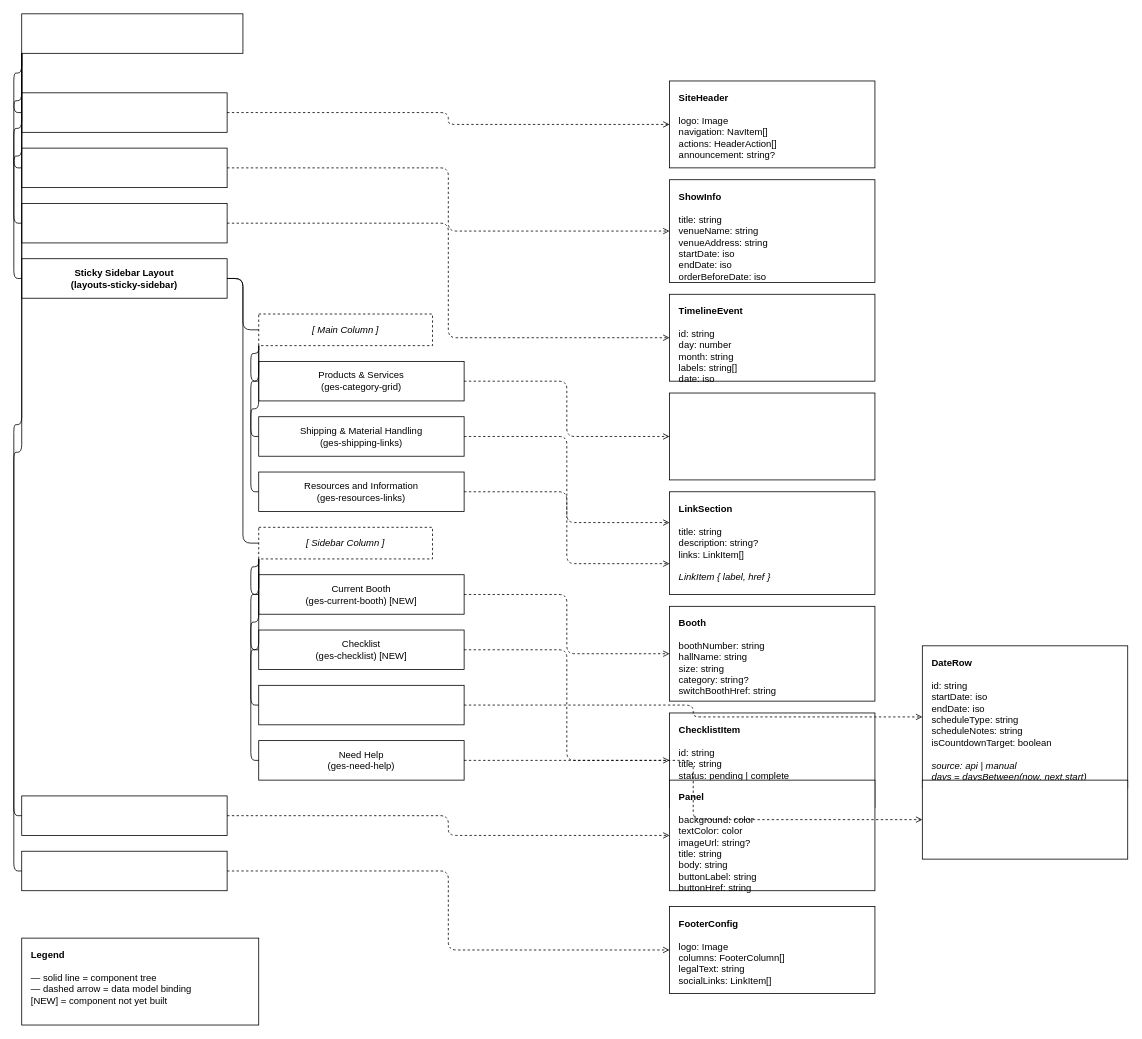
The diagram is 1142 pixels wide and 1039 high, and some of its shapes have lost their labels. Here are the shapes that lost their labels. From the top down, the centre of each, then its label:
point (132, 33): Landing Page (/home-poc)
point (124, 112): Site Header (ges-site-header)
point (124, 167): Show Info Header (ges-show-info) [NEW]
point (124, 223): Show Timeline (ges-show-timeline)
point (772, 436): CategoryButton categoryId: string label: string href: string iconUrl: string?
point (361, 705): Important Dates (ges-important-dates)
point (124, 815): Split Banner (ges-split-banner)
point (1025, 819): Contact label: string phoneNumber: string icon: string?
point (124, 870): Site Footer (site-footer)
